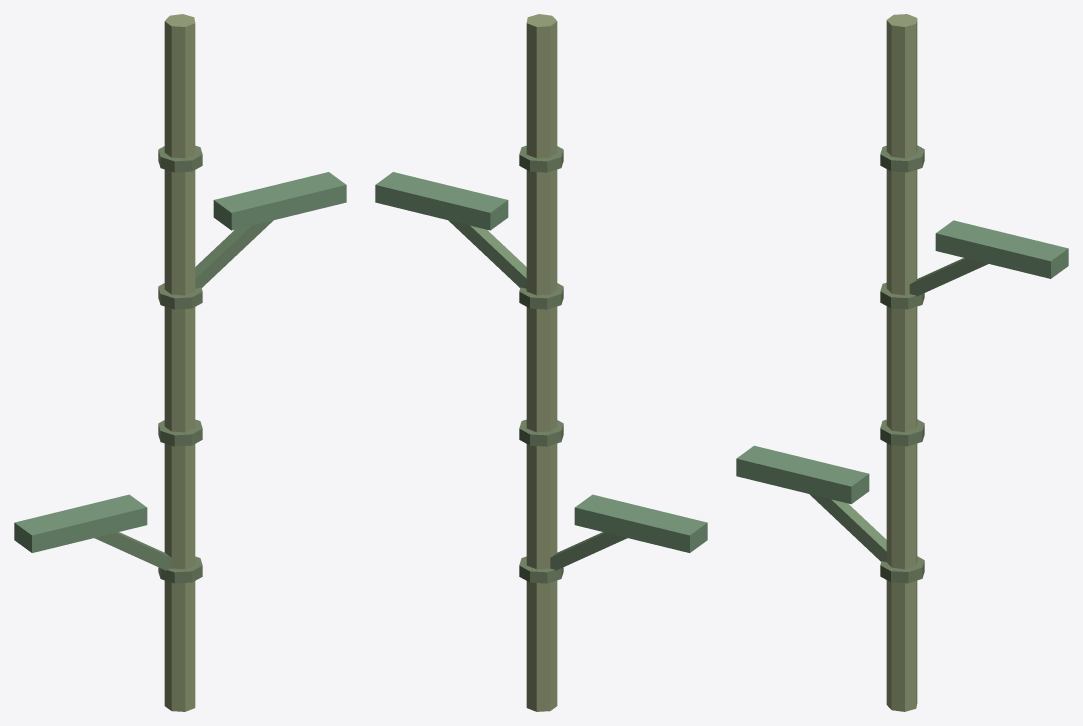
The model's file is bambu_alto.glb.
3 renders of one model, left to right at view 1: azimuth 30°, elevation 25°; view 2: azimuth 150°, elevation 25°; view 3: azimuth 330°, elevation 25°, orthographic.
Parts seen in each view (by area): view 1: part_000, part_003, part_007, part_006, part_002, part_004, part_008, part_005, part_001; view 2: part_000, part_003, part_007, part_006, part_002, part_004, part_008, part_005, part_001; view 3: part_000, part_007, part_003, part_002, part_006, part_004, part_008, part_001, part_005.
Boxes of the visible parts, x1,y1,x2,y2 form: part_000: [164, 14, 195, 711]; part_003: [14, 494, 147, 552]; part_007: [213, 172, 346, 230]; part_006: [195, 220, 273, 288]; part_002: [94, 532, 171, 570]; part_004: [158, 419, 202, 446]; part_008: [158, 145, 202, 172]; part_005: [158, 283, 202, 309]; part_001: [158, 556, 202, 583]; part_000: [526, 14, 557, 711]; part_003: [574, 494, 707, 552]; part_007: [375, 172, 508, 230]; part_006: [448, 220, 526, 288]; part_002: [550, 532, 627, 570]; part_004: [519, 419, 563, 446]; part_008: [519, 145, 563, 172]; part_005: [519, 283, 563, 309]; part_001: [519, 556, 563, 583]; part_000: [886, 14, 917, 711]; part_007: [935, 220, 1068, 278]; part_003: [736, 445, 869, 504]; part_002: [809, 494, 886, 562]; part_006: [909, 258, 988, 296]; part_004: [880, 419, 924, 446]; part_008: [880, 145, 924, 172]; part_001: [880, 556, 924, 583]; part_005: [880, 282, 924, 309].
Size of the model in its own units: 2.05 by 4.27 by 0.26.
